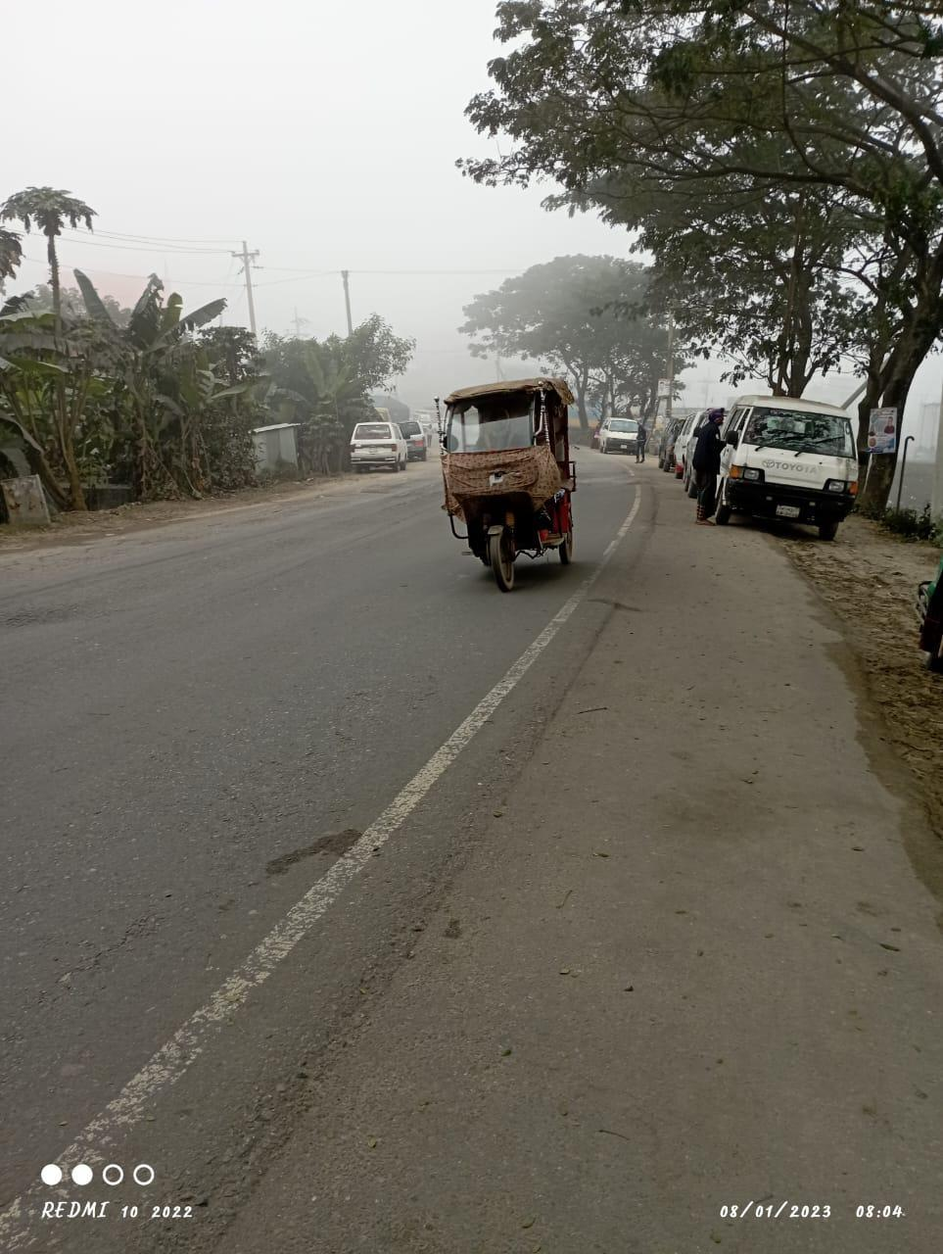Car: (431, 371, 578, 588), (709, 388, 864, 540), (338, 410, 415, 474), (595, 411, 646, 459)
